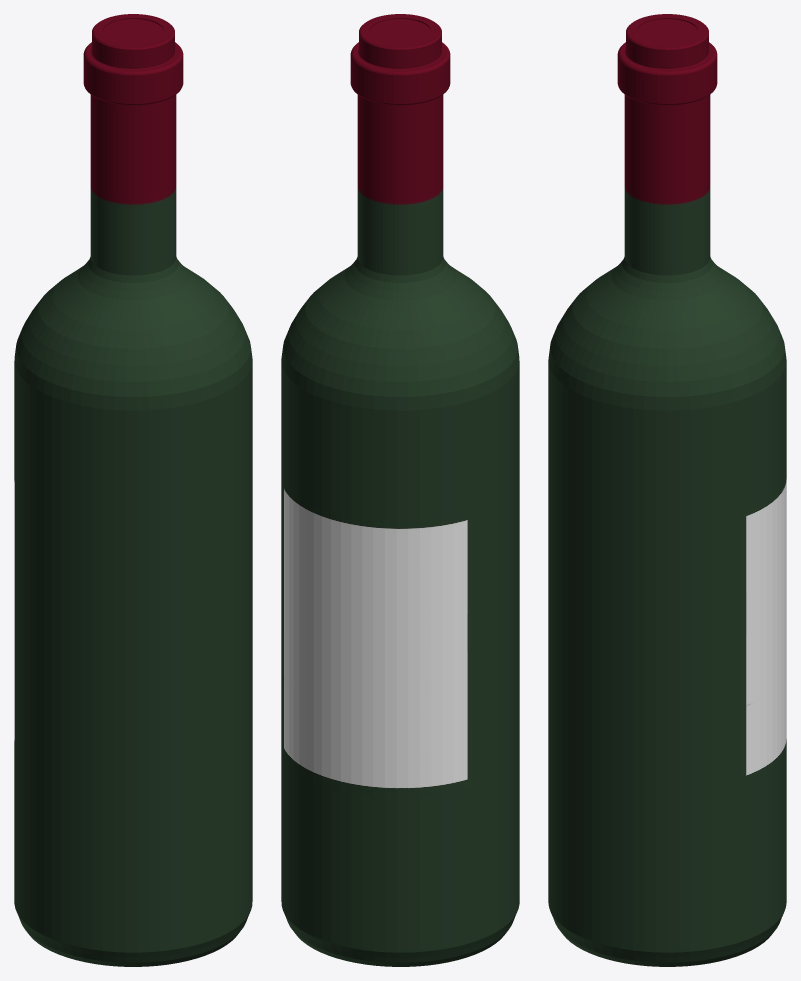
Rendered from bottle.obj.
3 views of the same model, side by side, from view 1: azimuth 30°, elevation 25°; view 2: azimuth 150°, elevation 25°; view 3: azimuth 270°, elevation 25° (orthographic).
Parts seen in each view (by area): view 1: Cylinder; view 2: Cylinder; view 3: Cylinder.
Boxes of the visible parts, left/top/right/bottom form: Cylinder: left=14, top=14, right=252, bottom=966; Cylinder: left=281, top=14, right=519, bottom=966; Cylinder: left=548, top=14, right=786, bottom=966.
Size of the model in its own units: 2 by 8.26 by 2.
1 material, 1 textured.
